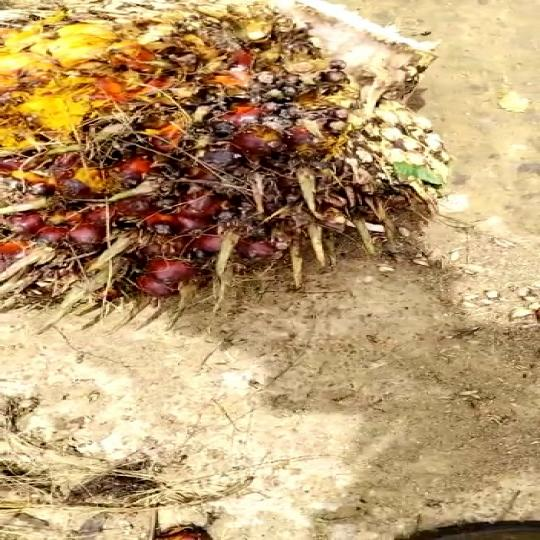masak: (0, 0, 443, 323)
